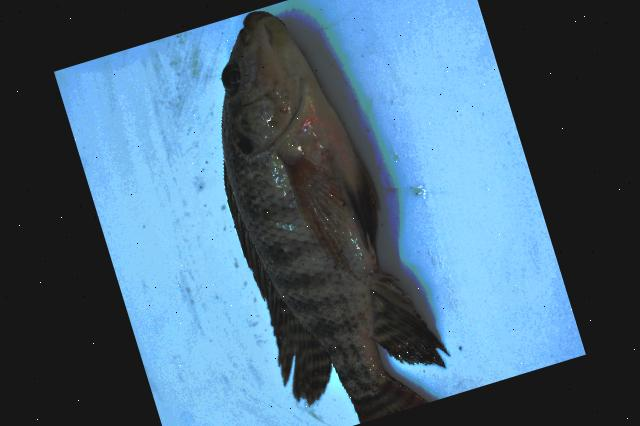Columnaris Disease: (222, 11, 446, 423)
